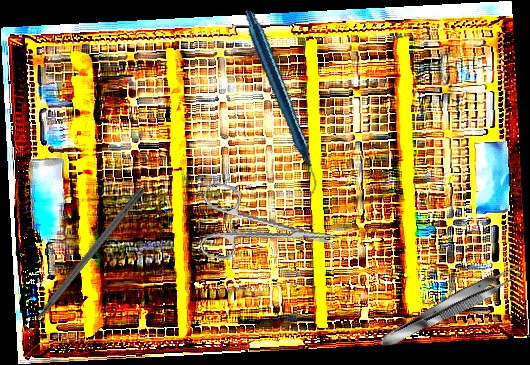Handpiece: (204, 9, 356, 195)
Hook Surgical: (14, 185, 147, 345)
Iris Scissors: (193, 181, 347, 281)
Tissue Forceps: (374, 258, 529, 354)
